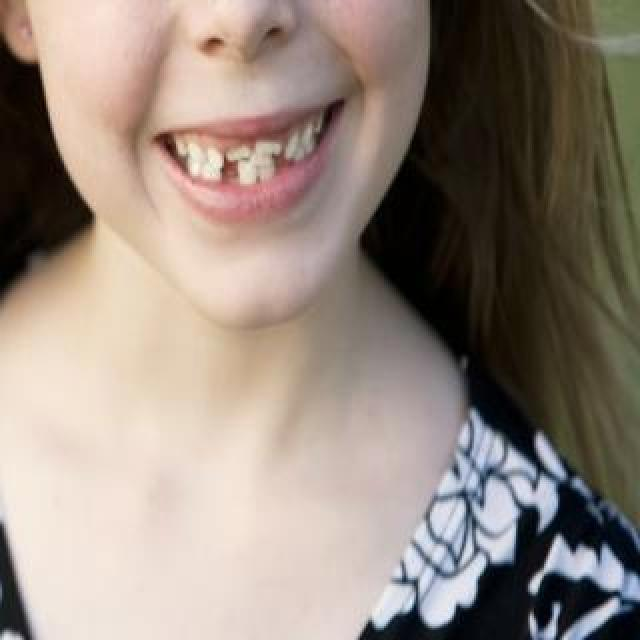maligned: (233, 138, 279, 184)
missing: (213, 148, 249, 194)
